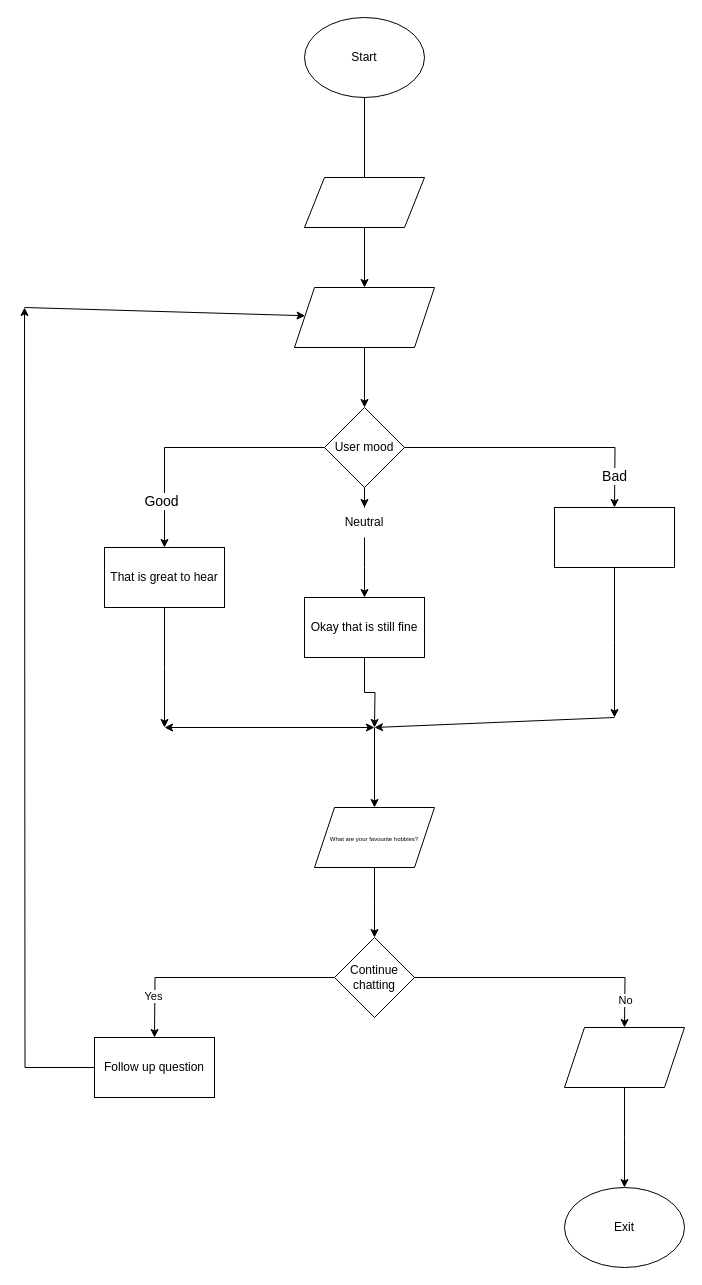
Image size: 702x1285. Some labels were removed from this diagram. Each missing label, with the centre of its shape:
Goodbye [name] Have a great day: the point at 624,1057
How are you feeling today?: the point at 364,317
I'm sorry to hear that I hope it will get better soon: the point at 614,537
What is your name?: the point at 364,202
